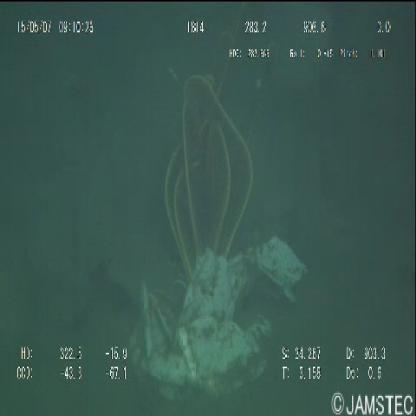Rác: (128, 234, 309, 406)
